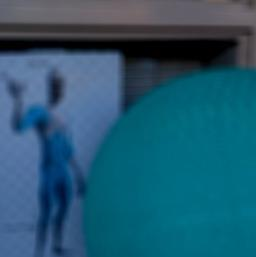algae: (79, 62, 256, 257)
